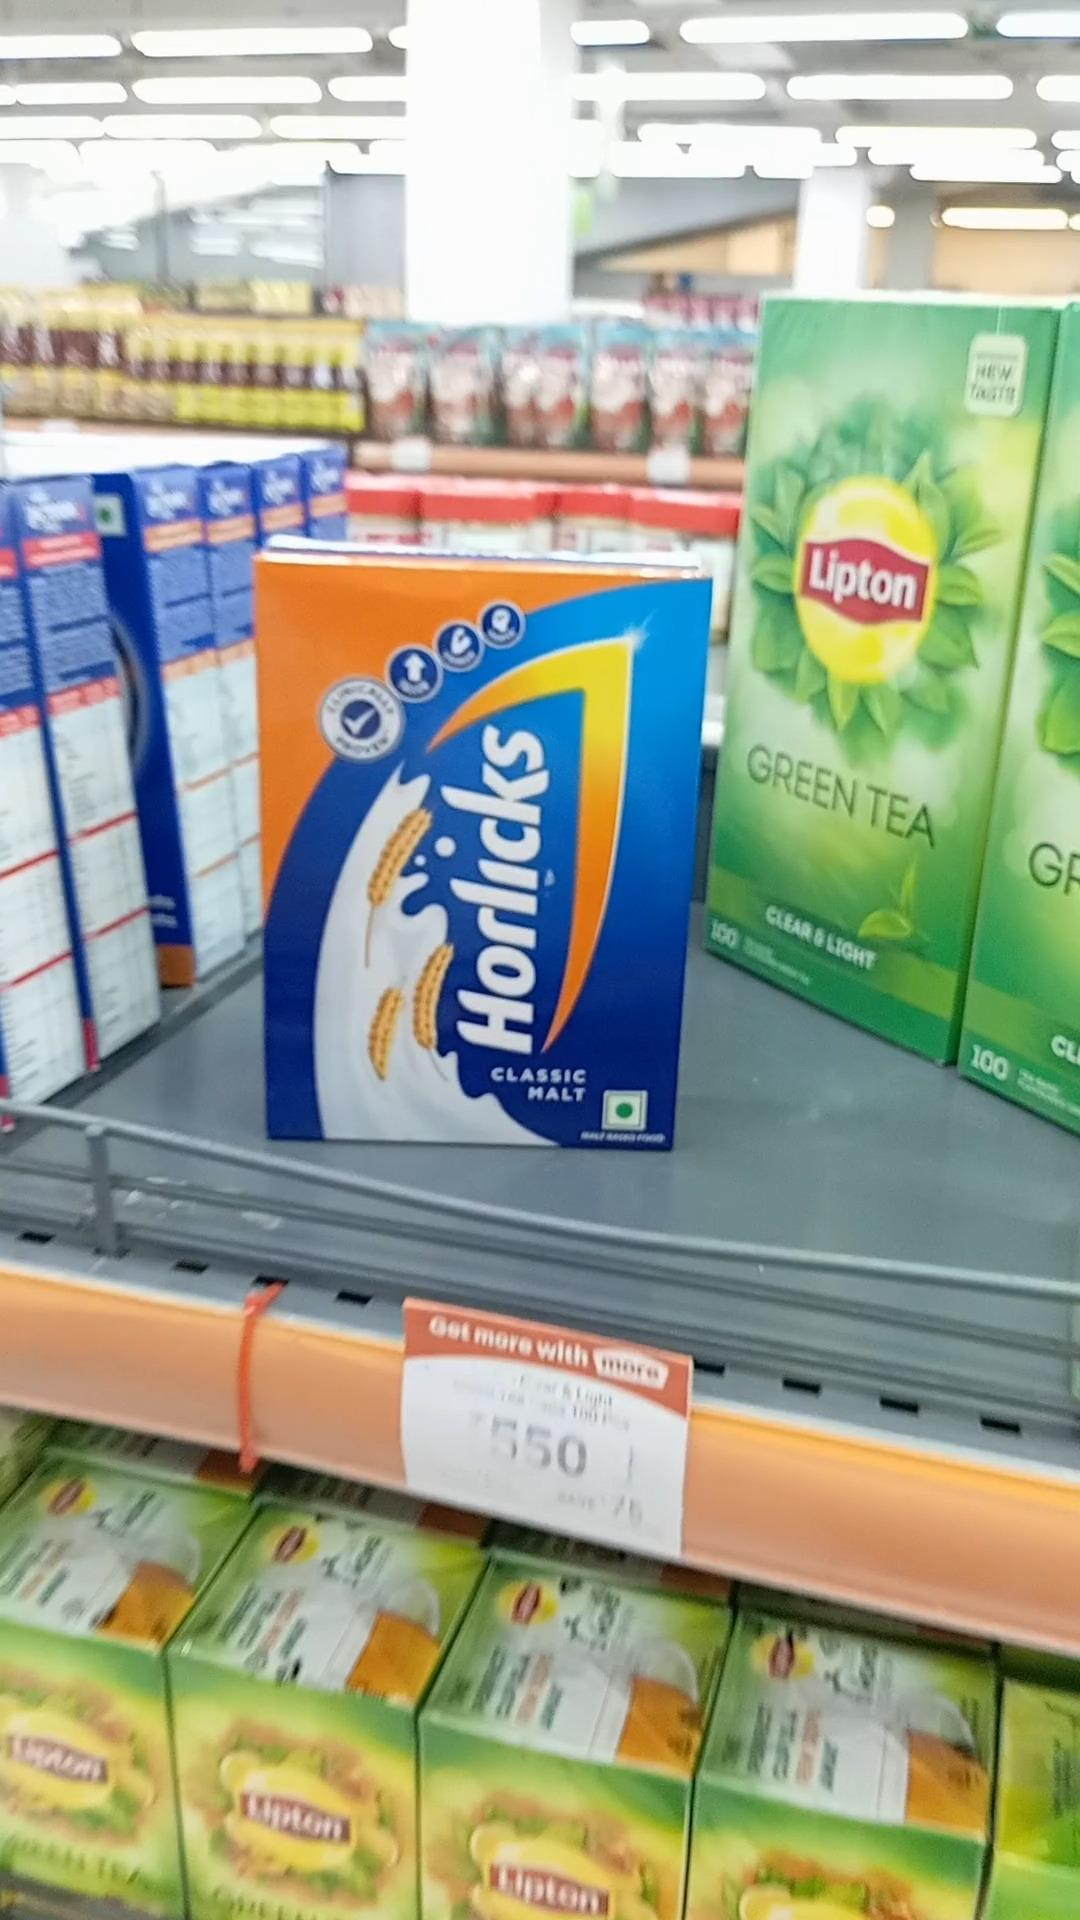HORLICK_CLASSIC_MALT_500_G_PACK: (258, 558, 704, 1153)
